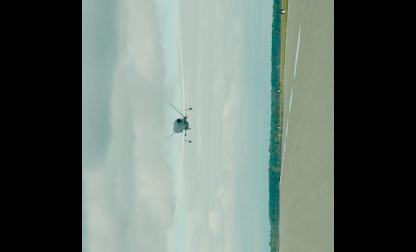P3: (168, 22, 192, 226)
